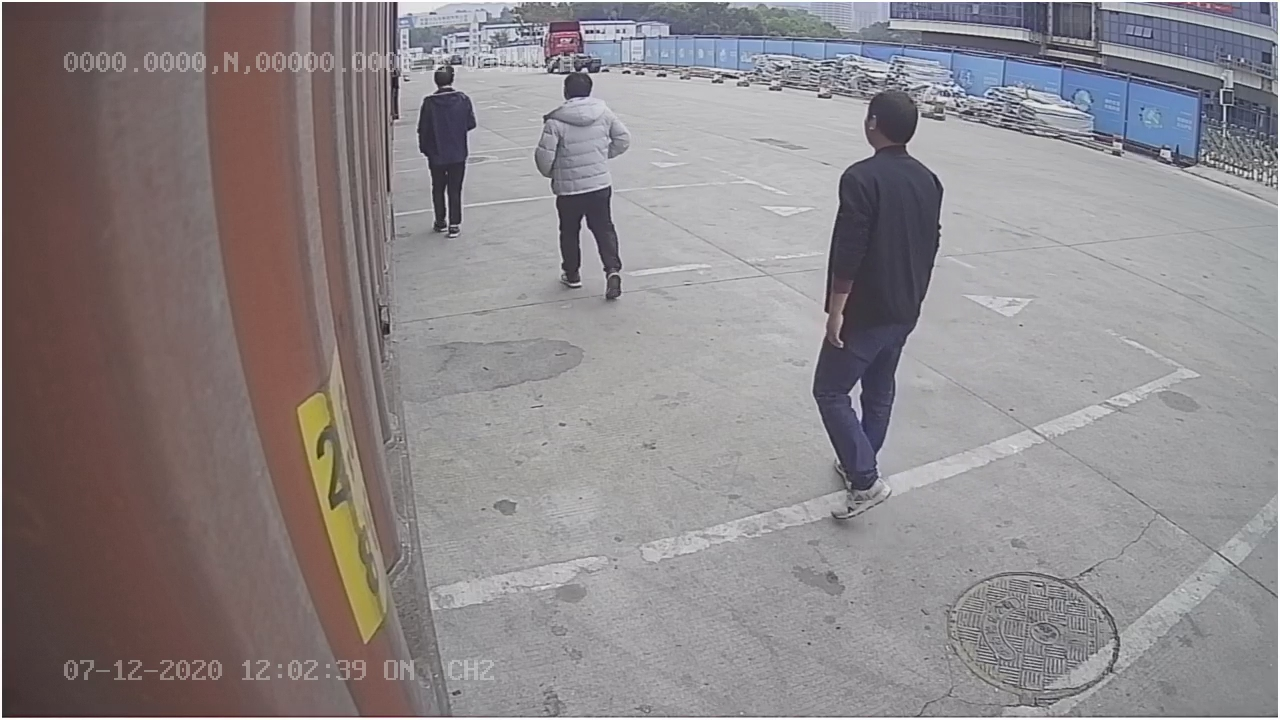person: (810, 86, 953, 527), (534, 62, 630, 304)
